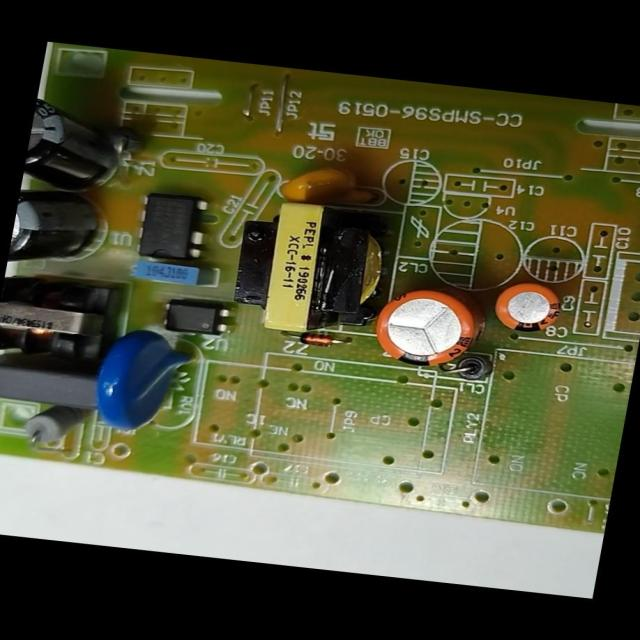Cap1: (367, 282, 498, 375)
Cap2: (489, 276, 567, 342)
Cap3: (6, 183, 115, 277)
Cap4: (22, 94, 142, 193)
MOSFET: (131, 183, 210, 264)
Mov: (82, 327, 204, 440)
Resistor: (15, 400, 84, 453)
Transformer: (223, 192, 394, 346), (0, 269, 138, 368)
